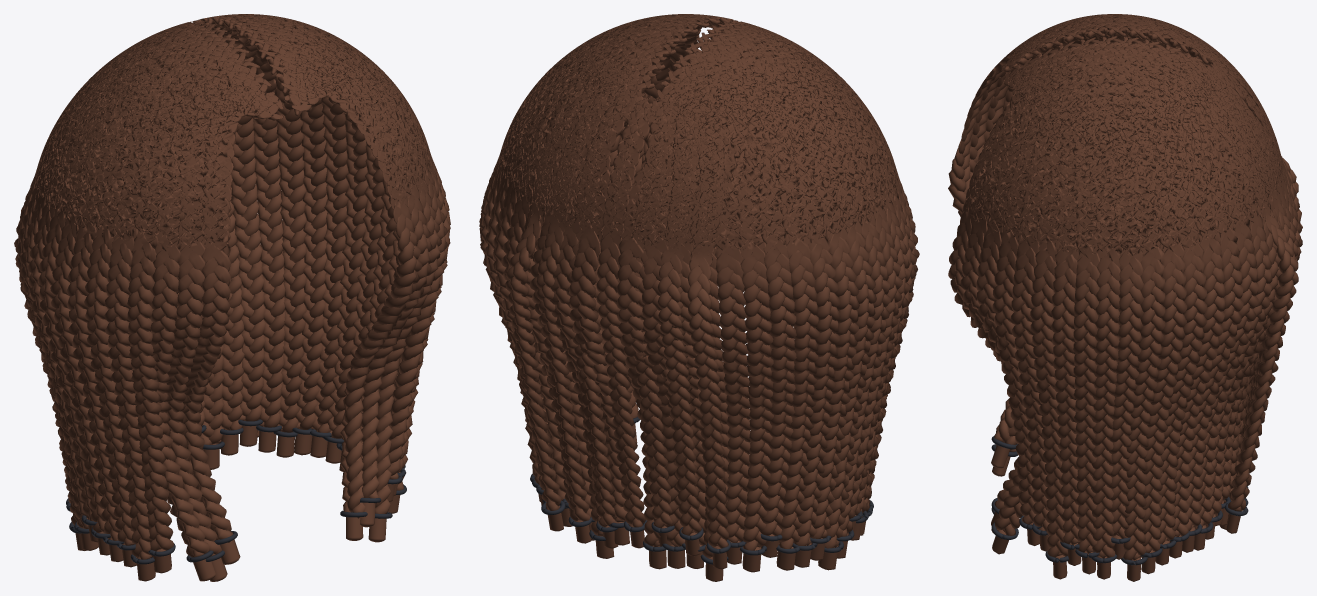
File: Feminine-box-braids-bandana-hair.glb
3 renders of one model, left to right at view 1: azimuth 30°, elevation 25°; view 2: azimuth 150°, elevation 25°; view 3: azimuth 270°, elevation 25°, orthographic. The views are drawn at different scales.
Parts seen in each view (by area): view 1: 226 hair / Hair / chestnut226.001, 226 hair / Hair / ties226.001; view 2: 226 hair / Hair / chestnut226.001, 226 hair / Hair / ties226.001; view 3: 226 hair / Hair / chestnut226.001, 226 hair / Hair / ties226.001.
Boxes of the visible parts, bbox=[...] form: 226 hair / Hair / chestnut226.001: bbox=[14, 14, 450, 581]; 226 hair / Hair / ties226.001: bbox=[66, 419, 406, 564]; 226 hair / Hair / chestnut226.001: bbox=[479, 14, 919, 581]; 226 hair / Hair / ties226.001: bbox=[530, 416, 873, 564]; 226 hair / Hair / chestnut226.001: bbox=[948, 14, 1302, 581]; 226 hair / Hair / ties226.001: bbox=[991, 436, 1248, 565].
Bounding box in the file's own units: 1.07 × 1.29 × 0.8592.
